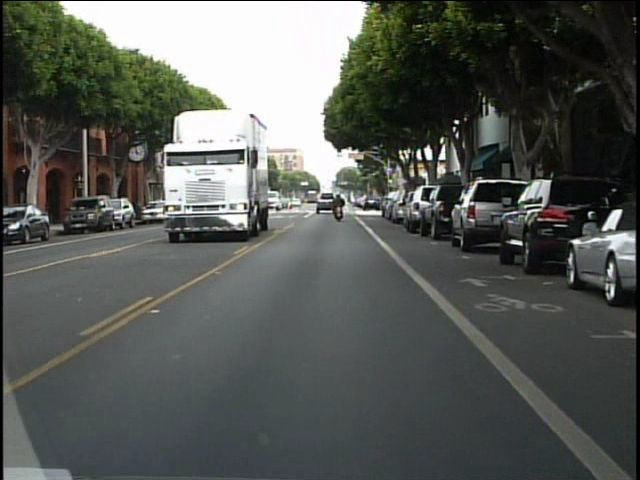person: (331, 192, 346, 223)
